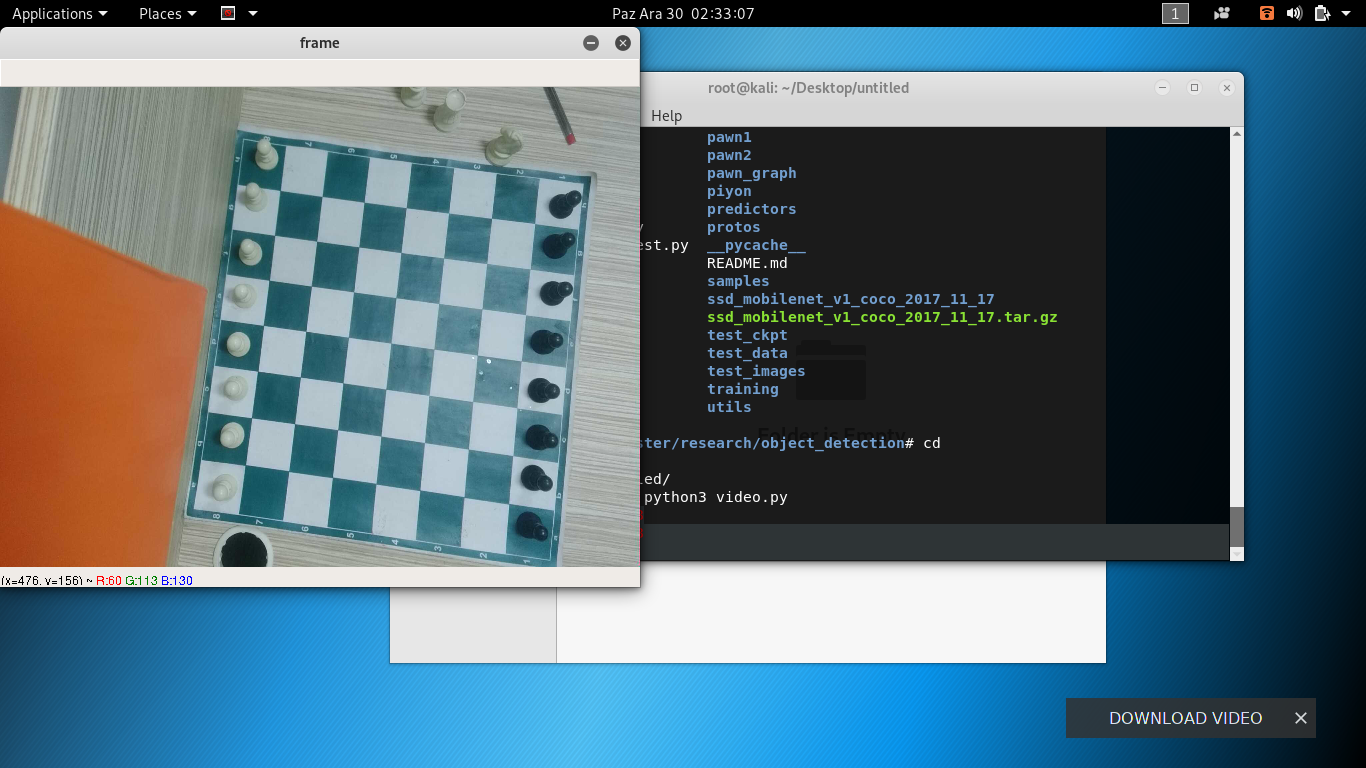BeyazPiyon: (252, 139, 279, 170), (243, 182, 270, 213), (211, 473, 239, 502), (221, 374, 251, 401), (237, 237, 263, 268), (231, 282, 259, 310), (225, 329, 251, 358), (219, 420, 244, 449)
SiyahPiyon: (547, 187, 582, 220), (514, 511, 549, 543), (524, 423, 559, 454), (541, 229, 575, 259), (529, 328, 565, 356), (526, 377, 562, 405), (520, 464, 554, 493), (540, 279, 574, 306)
